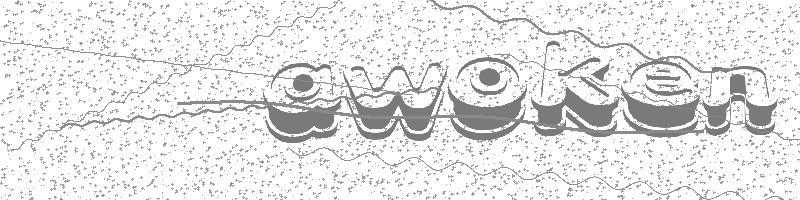a: (263, 61, 343, 145)
e: (620, 61, 701, 138)
k: (530, 40, 619, 139)
n: (703, 65, 779, 136)
o: (446, 56, 529, 143)
w: (342, 62, 446, 143)
